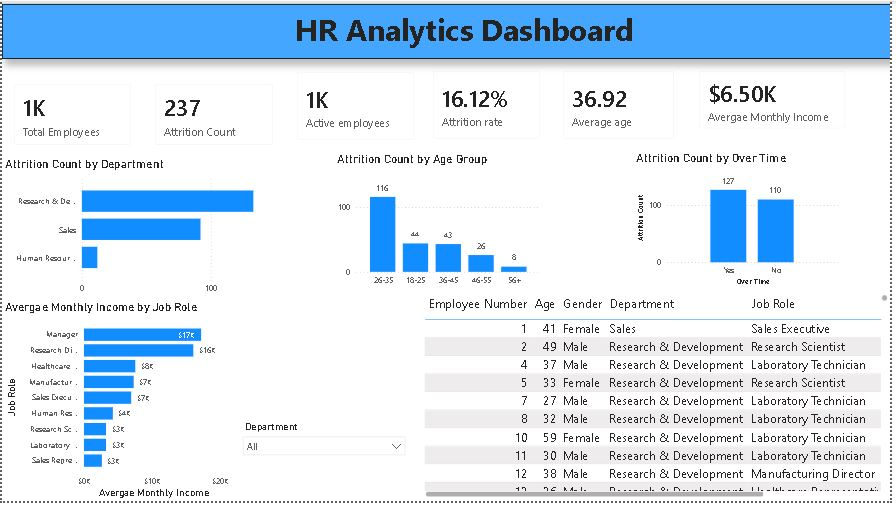

Layout of this report page (visuals, bound fields, positions):
{"tool":"powerbi","page":{"name":"Page 1","canvas":[1280,720],"ordinal":0},"visuals":[{"type":"cardVisual","fields":{"Data":["Hr_Analytics.Total Employees"]},"box":[0,102.5,203.3,122.6],"z":0},{"type":"cardVisual","fields":{"Data":["Hr_Analytics.Avergae Monthly income"]},"box":[986,84,245.2,117.6],"z":1},{"type":"cardVisual","fields":{"Data":["Hr_Analytics.Average age"]},"box":[791.2,84,194.9,132.7],"z":2},{"type":"cardVisual","fields":{"Data":["Hr_Analytics.Attrition rate"]},"box":[603,84,188.1,132.7],"z":3},{"type":"cardVisual","fields":{"Data":["Hr_Analytics.Active employees"]},"box":[408.2,85.7,203.3,132.7],"z":4},{"type":"cardVisual","fields":{"Data":["Hr_Analytics.Attrition_count"]},"box":[203.3,102.5,204.9,122.6],"z":5},{"type":"clusteredBarChart","fields":{"Category":["Hr_Analytics.Department"],"Y":["Hr_Analytics.Attrition_count"]},"box":[0,224.6,407.5,205.9],"z":6},{"type":"clusteredColumnChart","fields":{"Category":["Hr_Analytics.Age Group"],"Y":["Hr_Analytics.Attrition_count"]},"box":[478.1,217.4,302.4,201.6],"z":8},{"type":"clusteredColumnChart","fields":{"Category":["Hr_Analytics.Over Time"],"Y":["Hr_Analytics.Attrition_count"]},"box":[908.8,216.7,300.7,198.2],"z":9},{"type":"clusteredBarChart","fields":{"Category":["Hr_Analytics.Job Role"],"Y":["Hr_Analytics.Avergae Monthly income"]},"box":[0,430,337.6,290.6],"z":10},{"type":"textbox","box":[0,5,1280,79],"z":11},{"type":"tableEx","fields":{"Values":["Hr_Analytics.Employee Number","Hr_Analytics.Age","Hr_Analytics.Gender","Hr_Analytics.Department","Hr_Analytics.Job Role","Hr_Analytics.Monthly Income","Hr_Analytics.Attrition"]},"box":[603,418.3,677,302.4],"z":13},{"type":"slicer","fields":{"Values":["Hr_Analytics.Department","Hr_Analytics.Job Role","Hr_Analytics.Gender","Hr_Analytics.Marital Status","Hr_Analytics.Education Field","Hr_Analytics.Over Time"]},"box":[337.6,599.7,253.6,80.6],"z":15}]}

Visuals, with their boxes in screenshot pixels (x1, y1, x2, y2), scaled from the page's 1280x720 canvas onto the 896x506 screenshot:
cardVisual - Hr_Analytics.Total Employees: 0 72 142 158
cardVisual - Hr_Analytics.Avergae Monthly income: 690 59 862 142
cardVisual - Hr_Analytics.Average age: 554 59 690 152
cardVisual - Hr_Analytics.Attrition rate: 422 59 554 152
cardVisual - Hr_Analytics.Active employees: 286 60 428 153
cardVisual - Hr_Analytics.Attrition_count: 142 72 286 158
clusteredBarChart - Hr_Analytics.Department x Hr_Analytics.Attrition_count: 0 158 285 303
clusteredColumnChart - Hr_Analytics.Age Group x Hr_Analytics.Attrition_count: 335 153 546 294
clusteredColumnChart - Hr_Analytics.Over Time x Hr_Analytics.Attrition_count: 636 152 847 292
clusteredBarChart - Hr_Analytics.Job Role x Hr_Analytics.Avergae Monthly income: 0 302 236 505
textbox: 0 4 895 59
tableEx - Hr_Analytics.Employee Number x Hr_Analytics.Age: 422 294 895 505
slicer - Hr_Analytics.Department x Hr_Analytics.Job Role: 236 421 414 478
